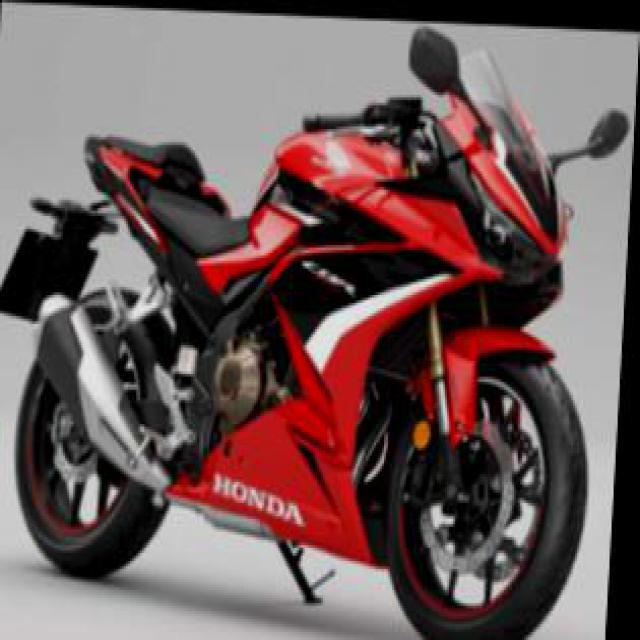CBR500R: (4, 21, 616, 637)
